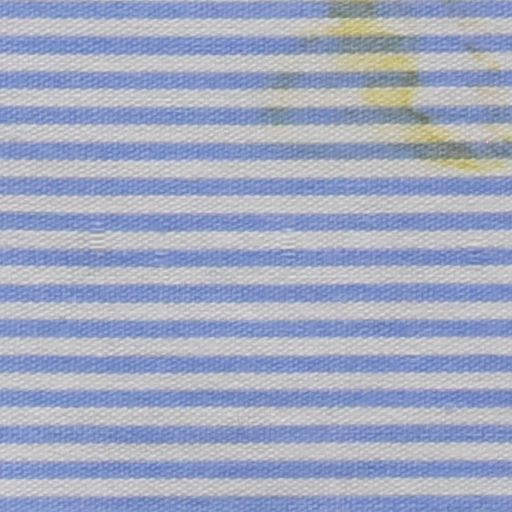defect: (330, 1, 468, 171)
